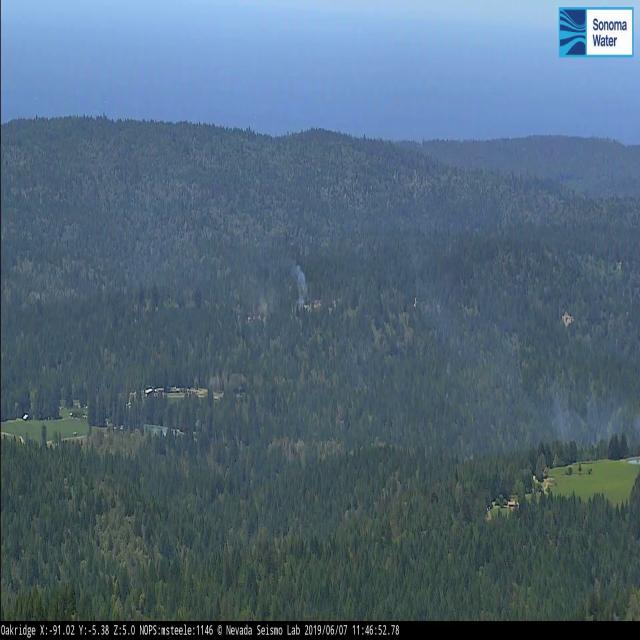smoke: (293, 257, 312, 314)
